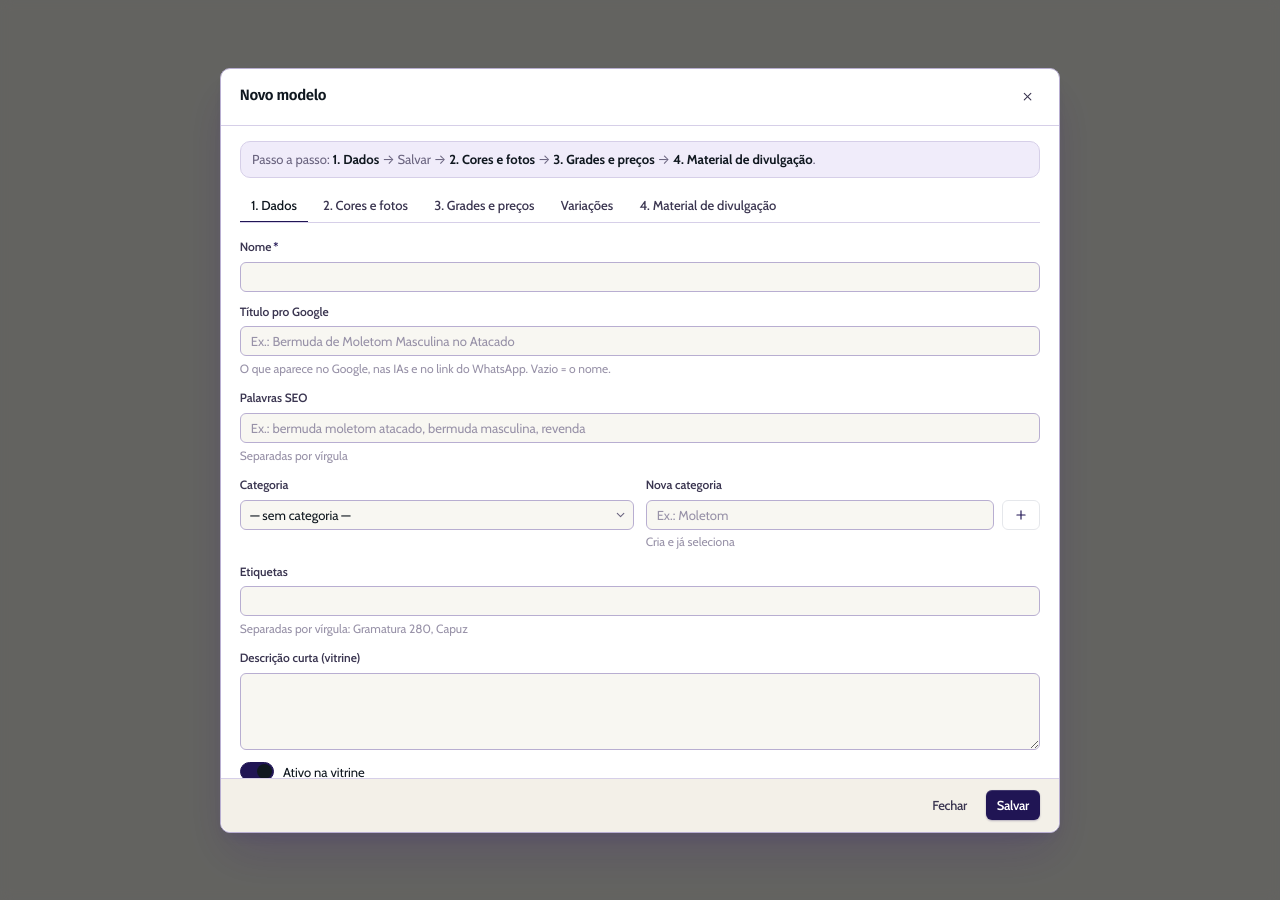
it: ModeloEditor — "Copiar preços de" › escolher a linha copia os preços dela pra esta
# O texto da aba também aparece no passo a passo do topo: clica no BOTÃO.
Click the button "3. Grades e preços": (484, 206) [423,189,546,223]
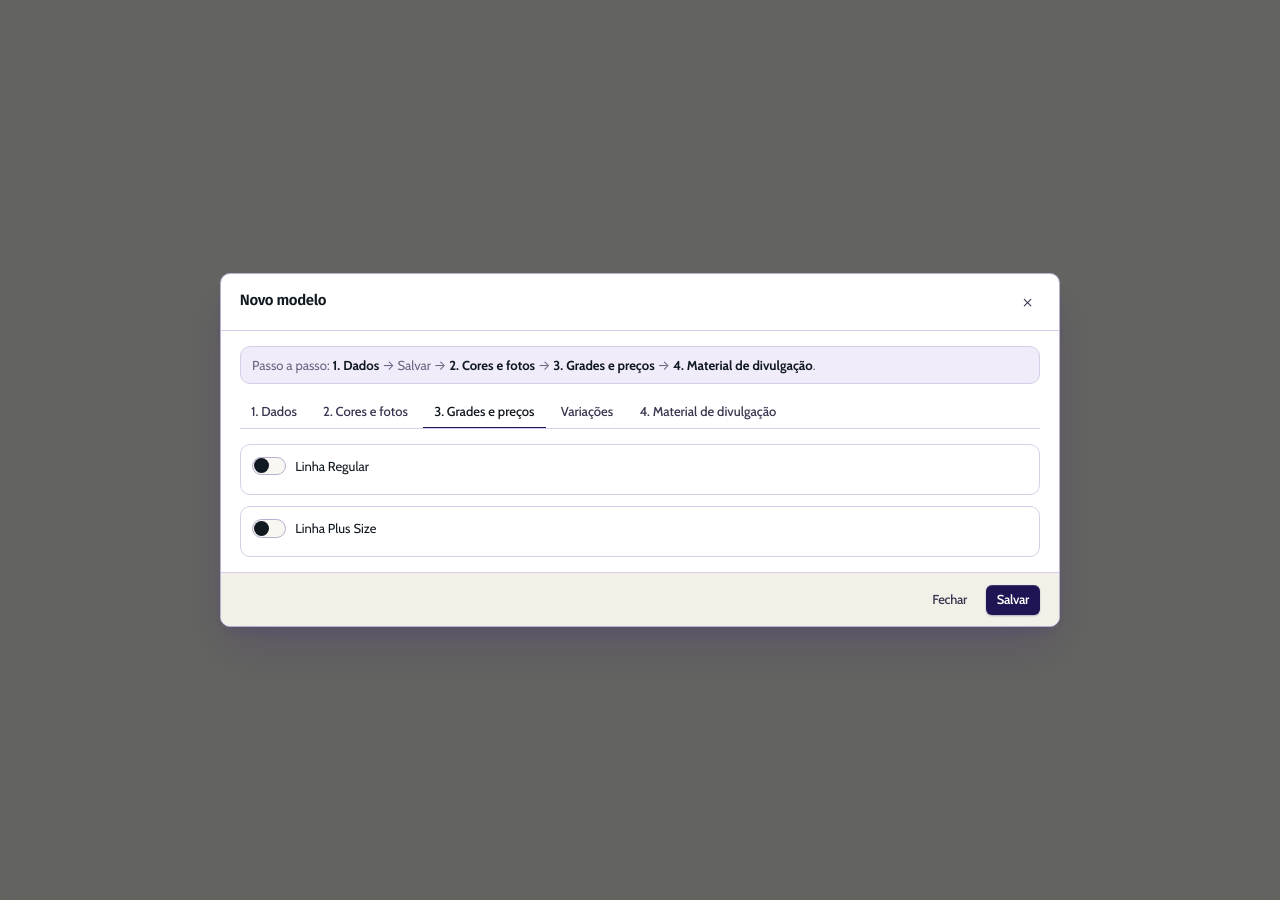
Click the checkbox labelled "Linha Regular": (310, 466) [252,456,369,476]
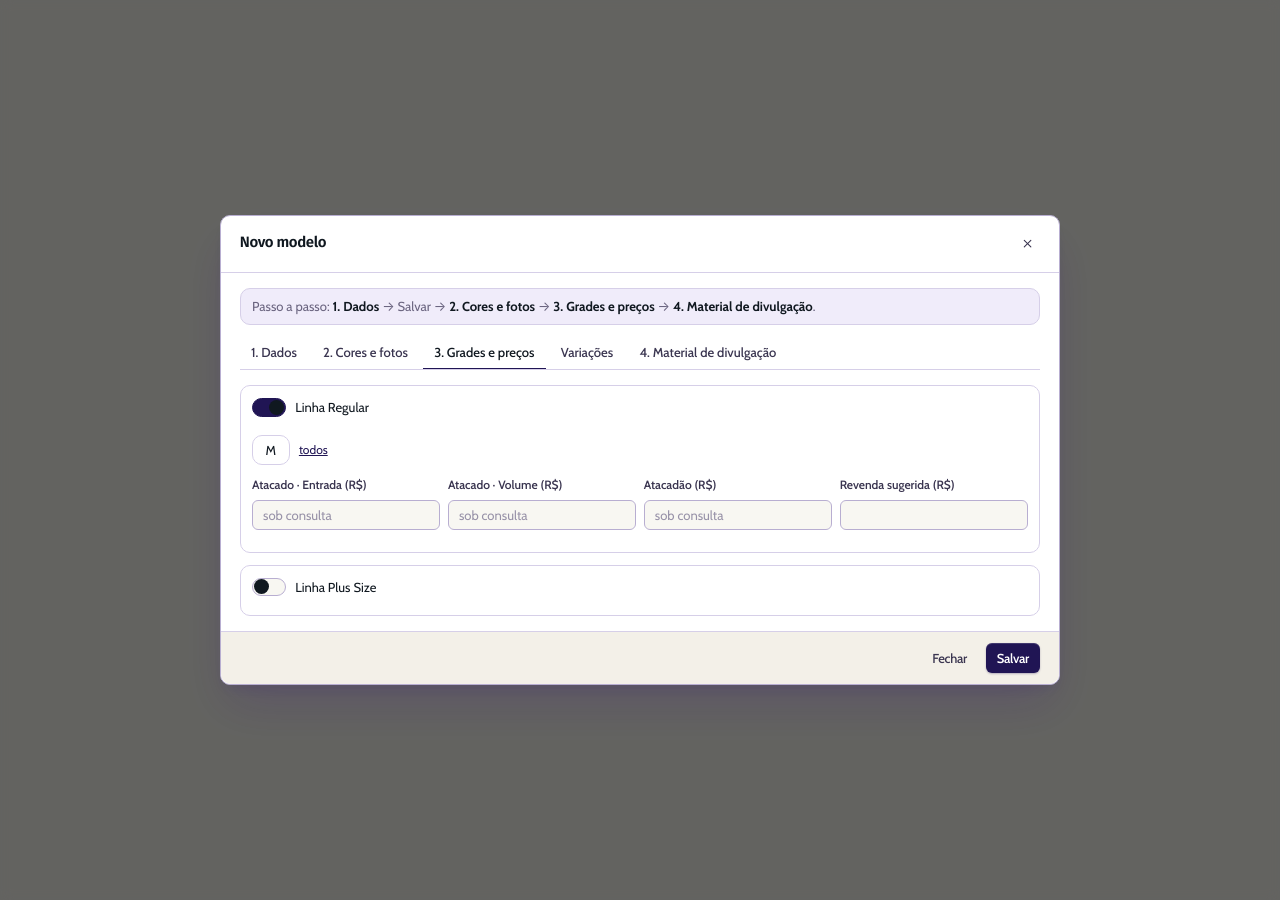
Click the checkbox labelled "Linha Plus Size": (314, 587) [252,577,376,597]
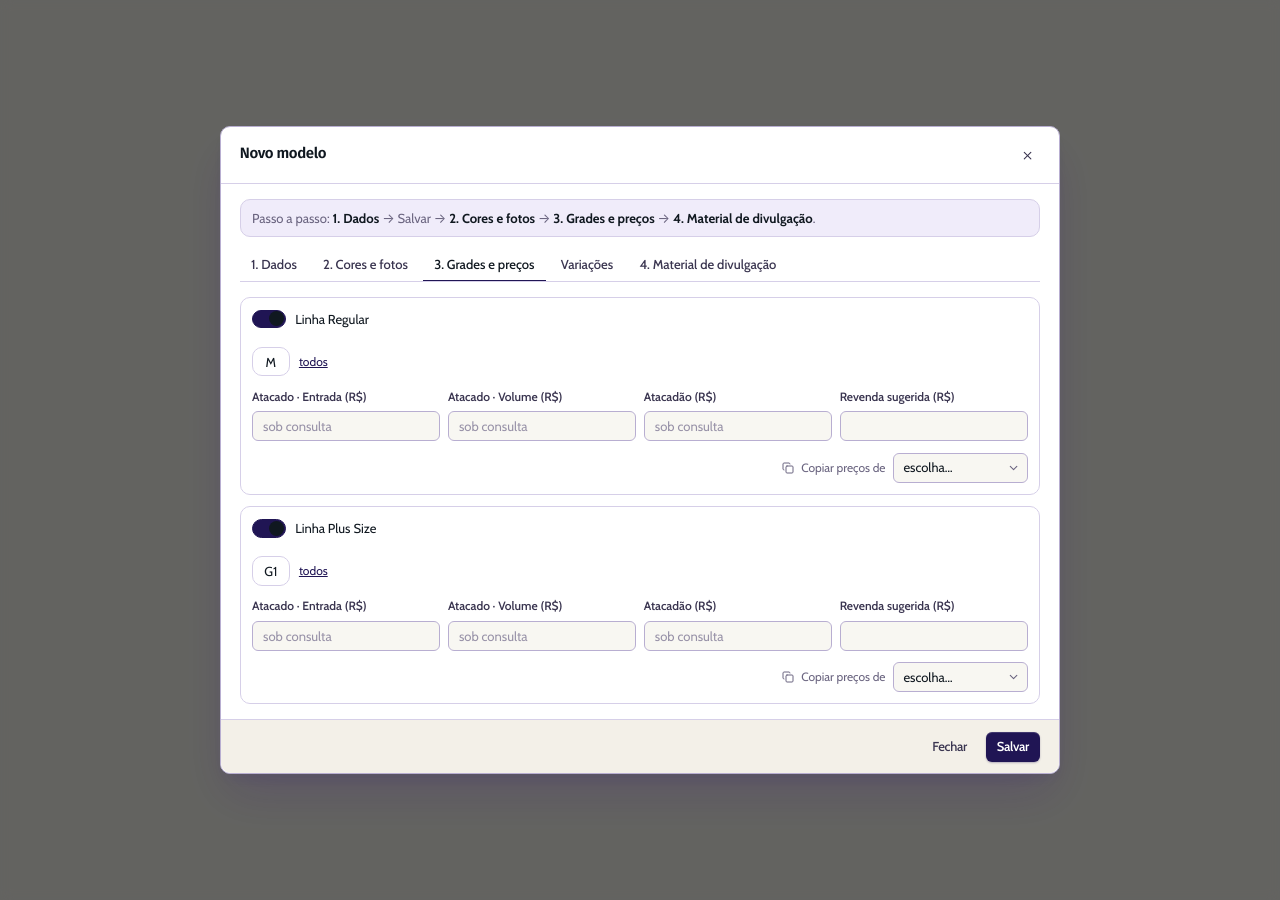
# 1ª linha (Regular): digita o preço de Entrada.
In the field with placeholder "sob consulta" below "Linha Regular": (346, 426) [252,411,440,441], type "18,99"
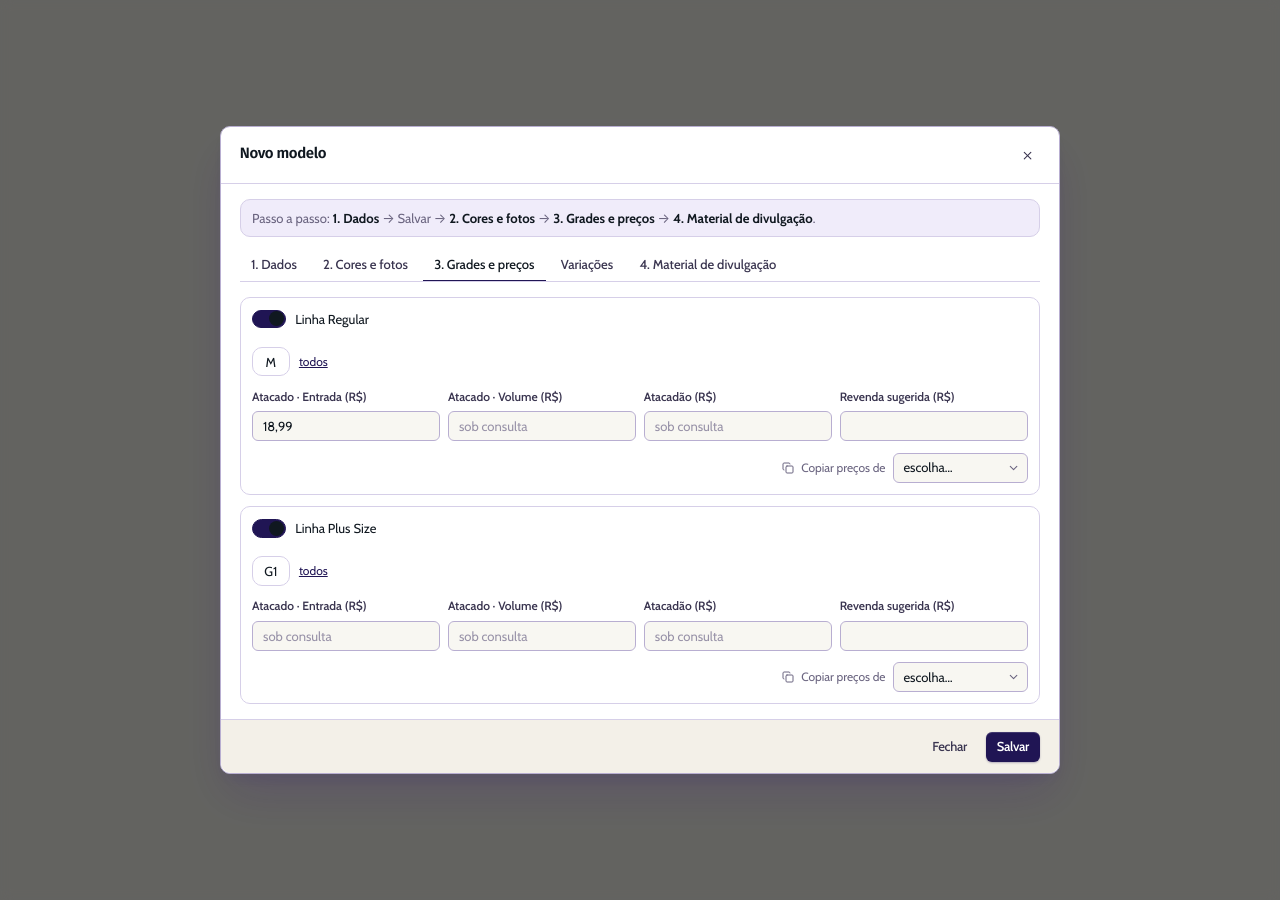
# Na Plus Size, "Copiar preços de" → Regular.
Select "Regular" in the dropdown with test id "modelo-copiar-precos-lin-plus": (960, 677) [893,662,1028,692]
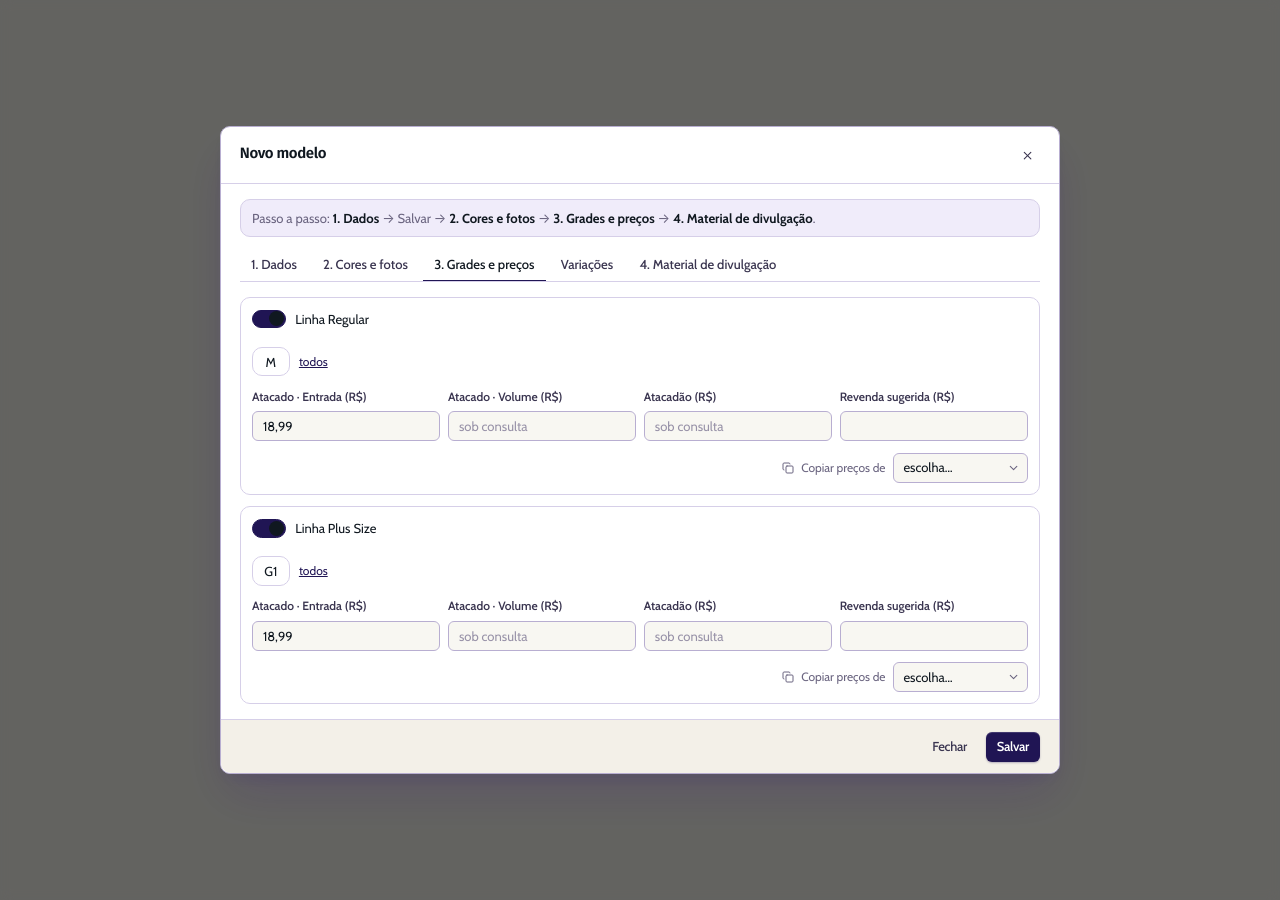
Result: the field with placeholder "sob consulta" below "Linha Plus Size" holds "18,99" at [252,621,440,651]
